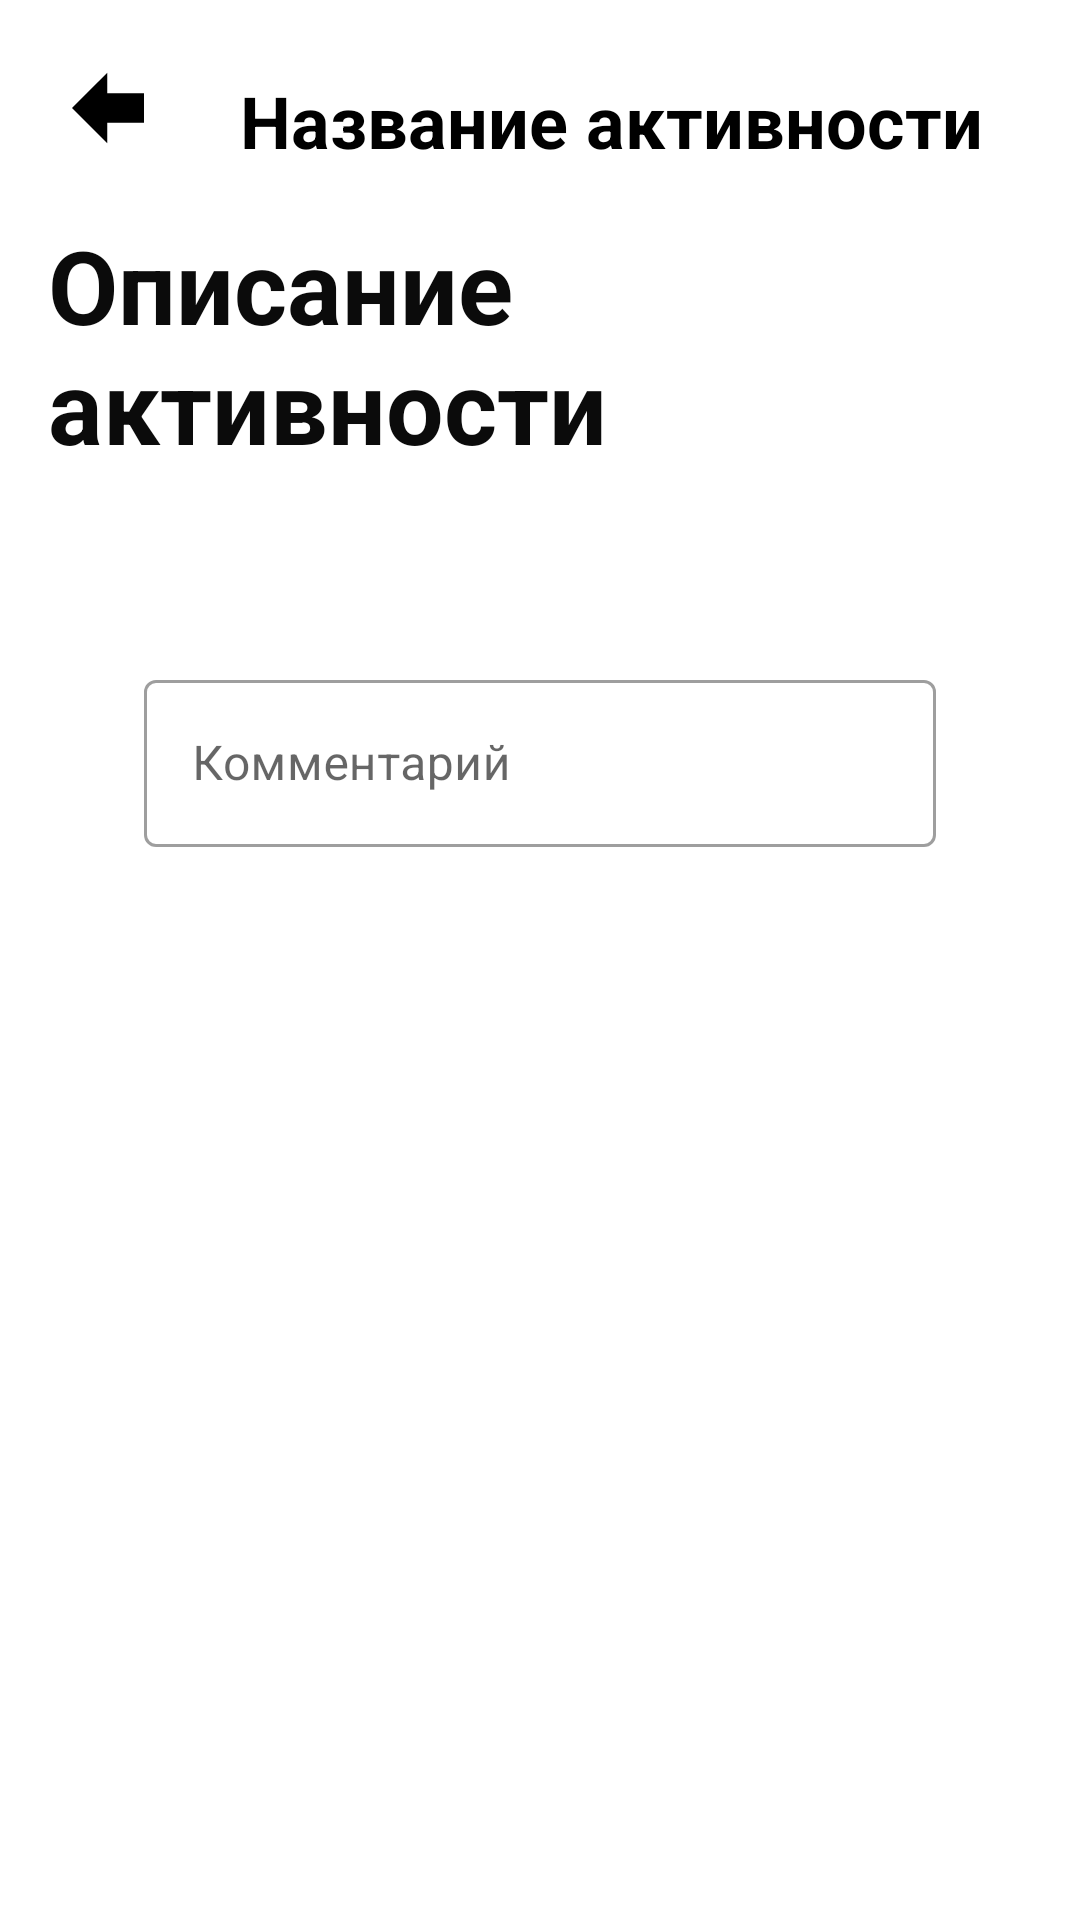

Icon click points for this 1080×1920 phone screenshot, format (x,y):
back arrow: (108,108)
